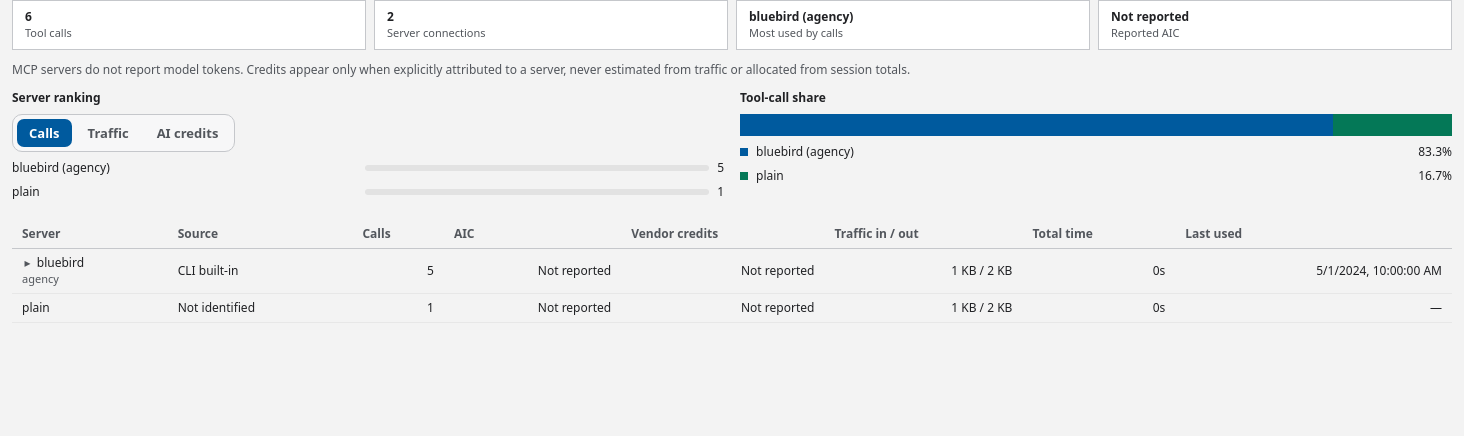
Test: expands a per-tool breakdown and surfaces last-used timing
The width and height of the screenshot is (1464, 436).
Click the button "▸ bluebird" at (53, 263), box [22,255,84,271]
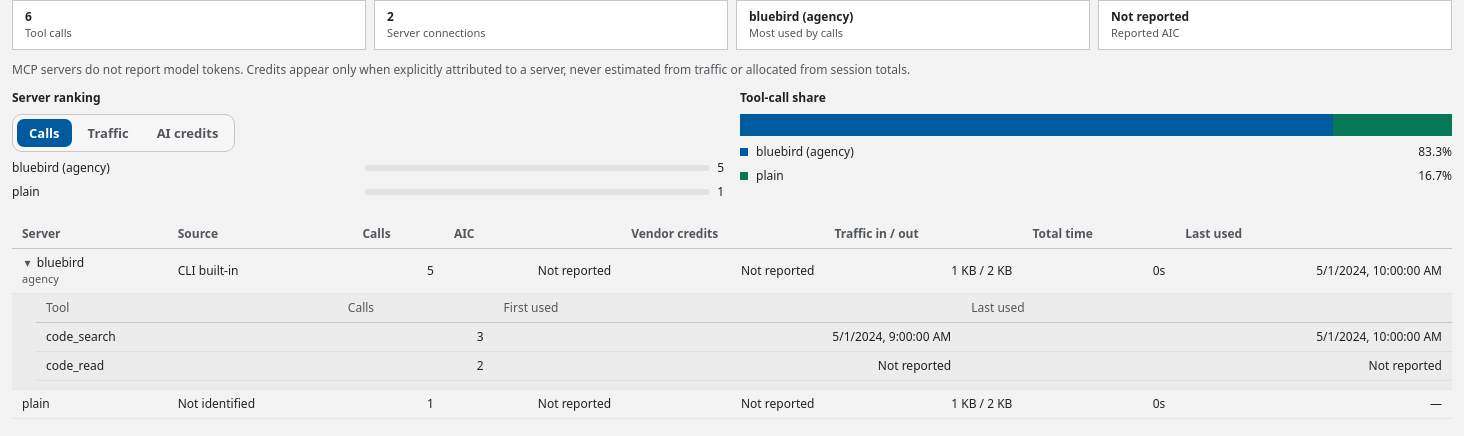
Expected: the button "▾ bluebird" is expanded
Expected: the cell "code_search" is shown, [36,322,338,352]
Expected: the cell "code_read" is shown, [36,352,338,380]
Click the button "▾ bluebird" at (53, 263), box [22,255,84,271]
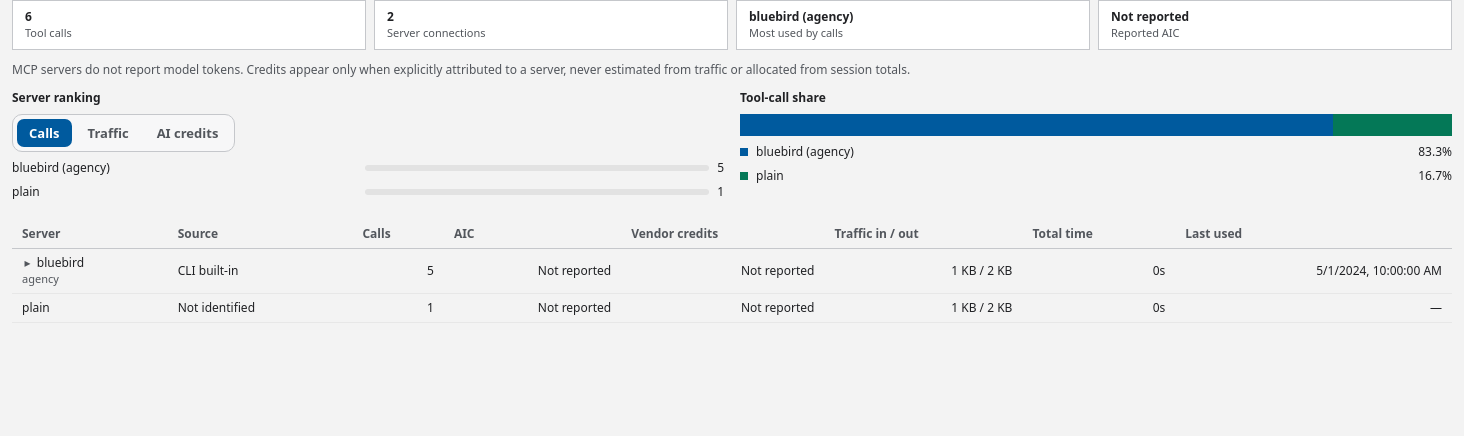
Expected: the button "▸ bluebird" is collapsed, [22,255,84,271]
